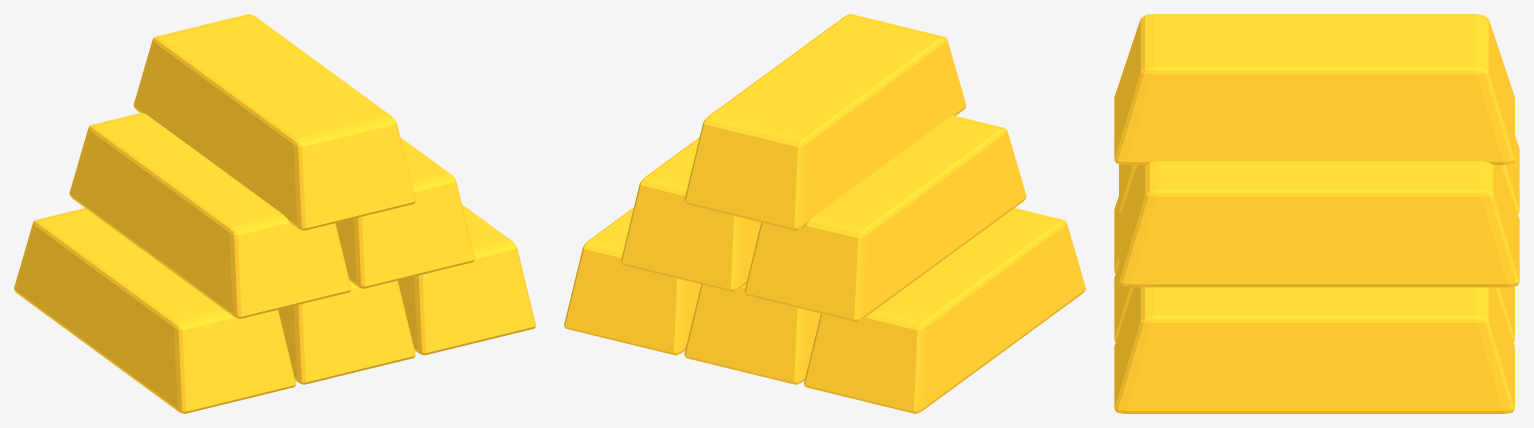
File: gold_ingots.glb
3 views of the same model, side by side, from view 1: azimuth 30°, elevation 25°; view 2: azimuth 150°, elevation 25°; view 3: azimuth 270°, elevation 25° (orthographic). The views are drawn at different scales.
Parts seen in each view (by area): view 1: Gold_Ingots; view 2: Gold_Ingots; view 3: Gold_Ingots.
Part boxes in pixels (x1=…): Gold_Ingots: x1=14, y1=14, x2=535, y2=413; Gold_Ingots: x1=564, y1=14, x2=1085, y2=413; Gold_Ingots: x1=1114, y1=14, x2=1519, y2=413.
Size of the model in its own units: 72 by 45.17 by 60.72.
